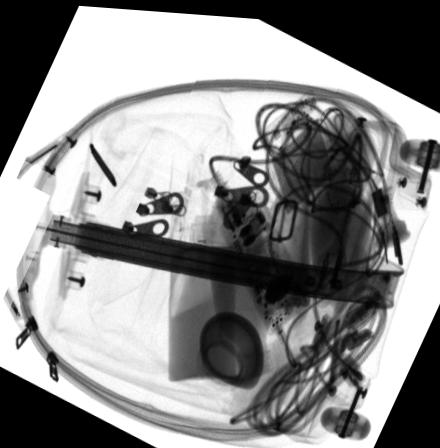Powerbank: (261, 91, 336, 215)
